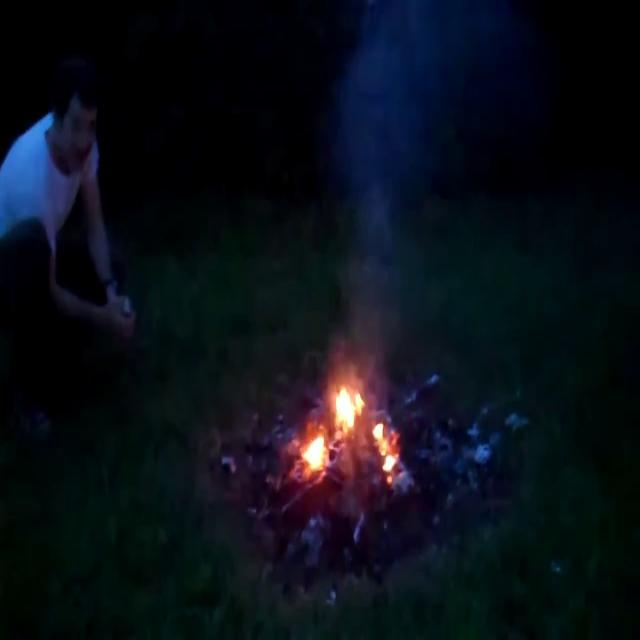Fire: (294, 369, 402, 479)
Smoke: (320, 2, 442, 380)
